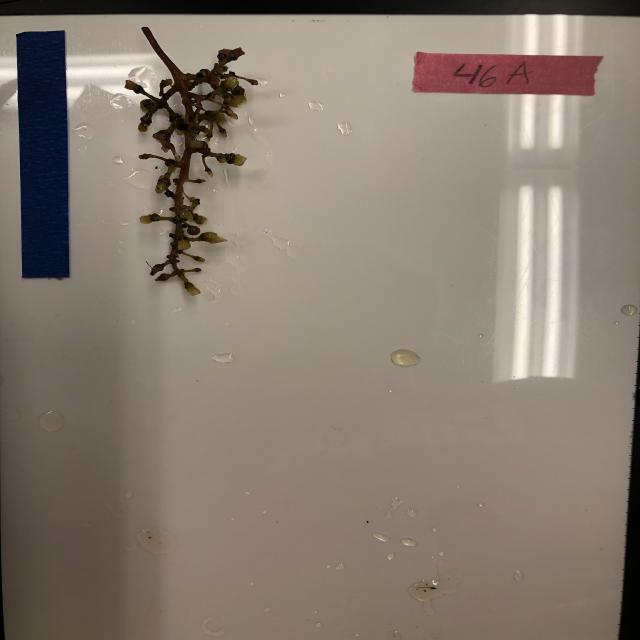index: (410, 51, 607, 98)
measure_label: (14, 28, 74, 283)
rachis_cluster: (121, 20, 269, 303)
